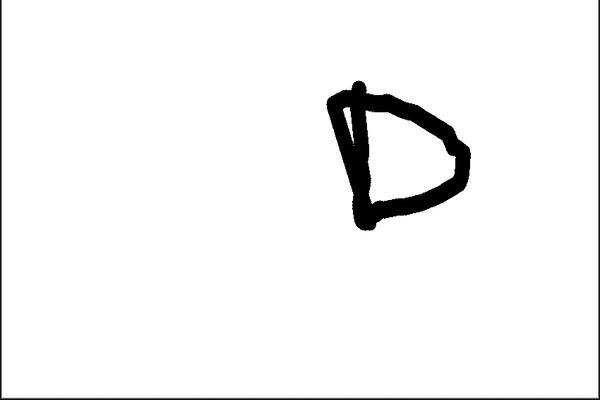D: (320, 76, 474, 234)
